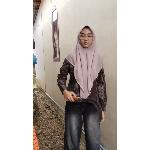Celurit: (63, 90, 107, 126)
